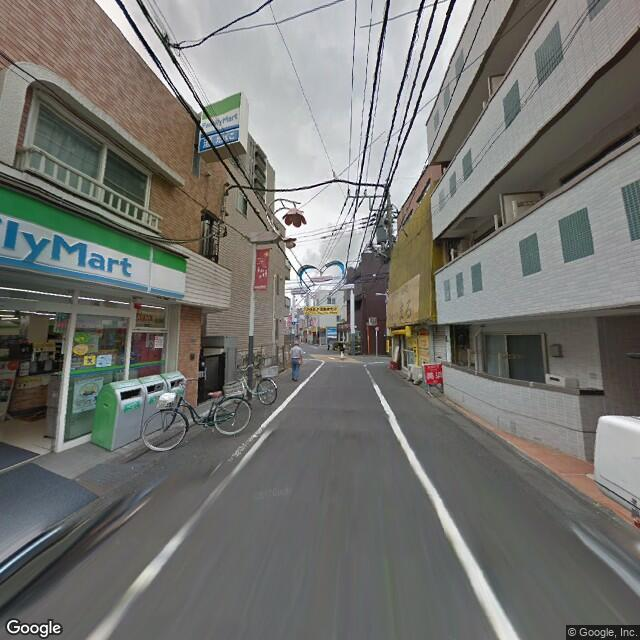family_mart: (2, 188, 187, 302), (199, 90, 246, 152)
